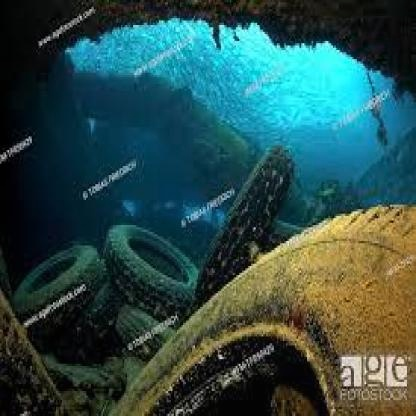tire: (96, 209, 207, 337), (202, 132, 282, 289), (18, 241, 117, 343)
